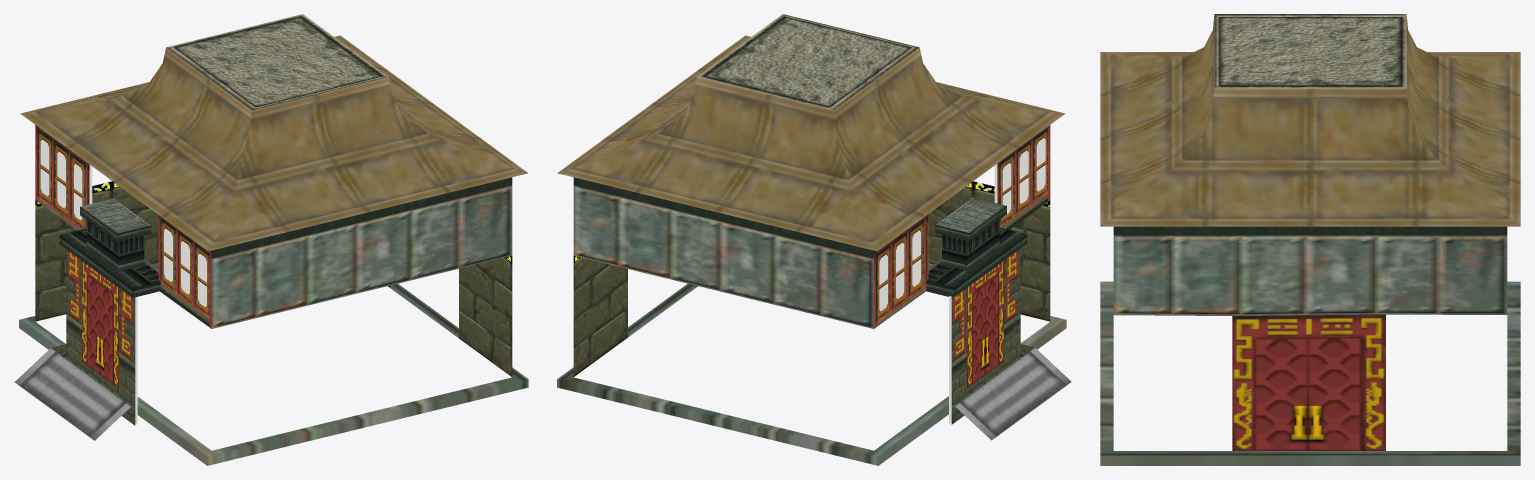
Rendered from l_residencecore.glb.
3 views of the same model, side by side, from view 1: azimuth 30°, elevation 25°; view 2: azimuth 150°, elevation 25°; view 3: azimuth 270°, elevation 25° (orthographic). The views are drawn at different scales.
Parts seen in each view (by area): view 1: Residence_Core, Litwin_res_core; view 2: Residence_Core, Litwin_res_core; view 3: Residence_Core.
Part boxes in pixels (box(x1,y1,x2,y2)): Residence_Core: box(14, 14, 528, 465); Litwin_res_core: box(40, 139, 206, 424); Residence_Core: box(557, 14, 1071, 465); Litwin_res_core: box(879, 138, 1045, 423); Residence_Core: box(1100, 14, 1520, 465).
Size of the model in its own units: 27.09 by 20.07 by 23.24.
Materials: 7 (7 with a texture image).
